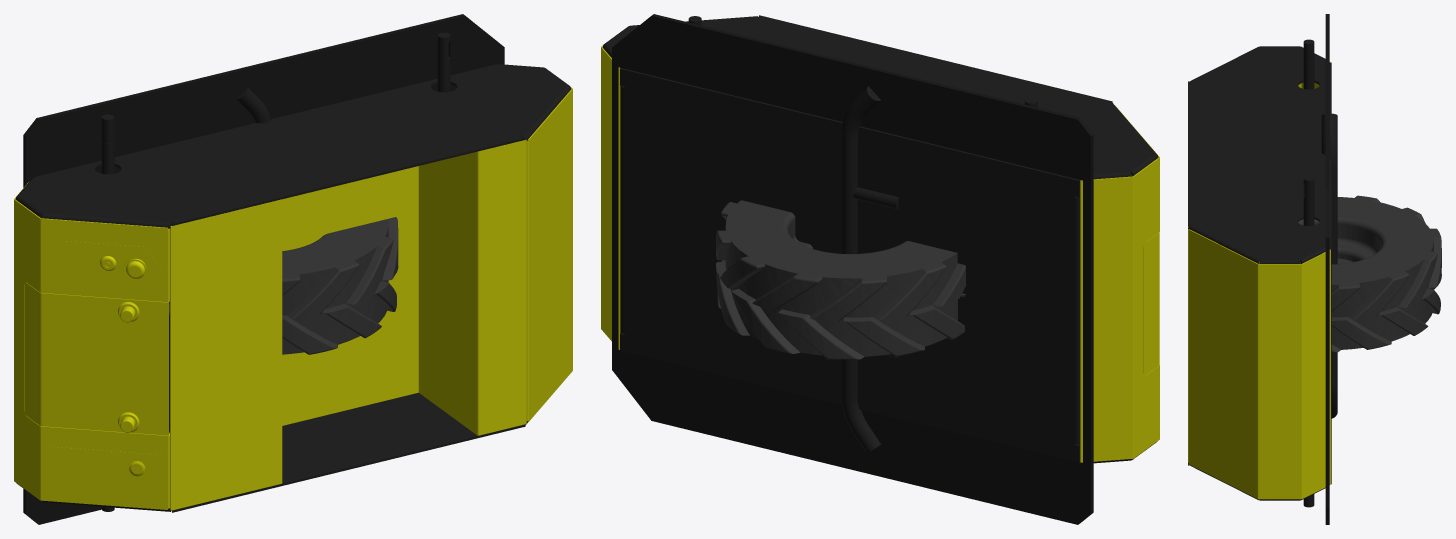
The model's file is husky-parts.glb.
3 renders of one model, left to right at view 1: azimuth 30°, elevation 25°; view 2: azimuth 150°, elevation 25°; view 3: azimuth 270°, elevation 25°, orthographic. The views are drawn at different scales.
Parts seen in each view (by area): view 1: Top_Chassis, Base_Link, Top_Plate, Wheel, Bumper; view 2: Base_Link, Top_Plate, Wheel, Top_Chassis, Bumper; view 3: Top_Chassis, Base_Link, Wheel, Top_Plate, Bumper.
Boxes of the visible parts, x1,y1,x2,y2 form: Top_Chassis: [14, 87, 572, 510]; Base_Link: [15, 32, 571, 512]; Top_Plate: [23, 14, 504, 524]; Wheel: [169, 217, 398, 354]; Bumper: [236, 87, 271, 123]; Base_Link: [602, 15, 1158, 463]; Top_Plate: [612, 14, 1093, 524]; Wheel: [716, 200, 965, 359]; Top_Chassis: [601, 45, 1159, 462]; Bumper: [841, 86, 898, 453]; Top_Chassis: [1188, 62, 1330, 499]; Base_Link: [1188, 39, 1331, 507]; Wheel: [1298, 195, 1441, 352]; Top_Plate: [1325, 14, 1329, 524]; Bumper: [1321, 113, 1337, 418].
Size of the model in its own units: 0.812 by 0.59 by 0.4021.
